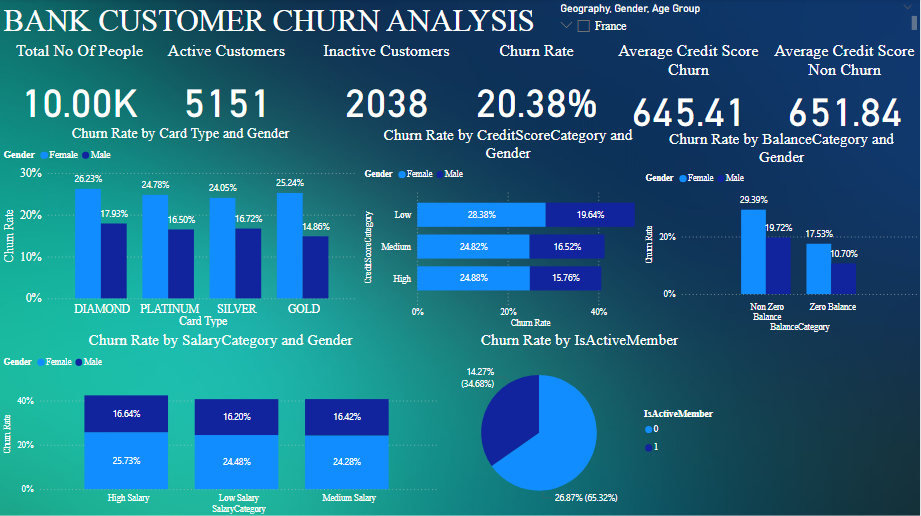

What the dashboard file says about the page in this screenshot:
{"tool":"powerbi","page":{"name":" Page 2","canvas":[1280,720],"ordinal":1},"visuals":[{"type":"textbox","box":[0,0,765.9,59.8],"z":0},{"type":"card","title":"Total No Of People","fields":{"Values":["CountNonNull(Customer-Churn-Records.RowNumber)"]},"box":[0,59.8,221,134.8],"z":1000},{"type":"card","title":"Active Customers","fields":{"Values":["Sum(Customer-Churn-Records.IsActiveMember)"]},"box":[204.3,59.8,221,134.8],"z":2000},{"type":"card","title":"Inactive Customers","fields":{"Values":["Sum(Customer-Churn-Records.Exited)"]},"box":[426.7,59.8,221,134.8],"z":3000},{"type":"card","title":"Churn Rate","fields":{"Values":["Customer-Churn-Records.Churn Rate"]},"box":[635.2,59.8,221,134.8],"z":4000},{"type":"card","title":"Average Credit Score Churn","fields":{"Values":["Customer-Churn-Records.AvgCreditScore_Churned"]},"box":[846.5,59.8,221,134.8],"z":5000},{"type":"card","title":"Average Credit Score Non Churn","fields":{"Values":["Customer-Churn-Records.AvgCreditSCore_NonChurn"]},"box":[1067.5,59.8,212.7,134.8],"z":6000},{"type":"clusteredColumnChart","fields":{"Category":["Customer-Churn-Records.Card Type"],"Y":["Customer-Churn-Records.Churn Rate"],"Series":["Customer-Churn-Records.Gender"]},"box":[0,175.1,501.8,286.3],"z":7000},{"type":"barChart","fields":{"Y":["Customer-Churn-Records.Churn Rate"],"Category":["Customer-Churn-Records.CreditScoreCategory"],"Series":["Customer-Churn-Records.Gender"]},"box":[501.8,176.5,408.6,286.3],"z":8000},{"type":"clusteredColumnChart","fields":{"Category":["Customer-Churn-Records.BalanceCategory"],"Y":["Customer-Churn-Records.Churn Rate"],"Series":["Customer-Churn-Records.Gender"]},"box":[892.4,182.1,387.8,286.3],"z":9000},{"type":"columnChart","fields":{"Y":["Customer-Churn-Records.Churn Rate"],"Series":["Customer-Churn-Records.Gender"],"Category":["Customer-Churn-Records.SalaryCategory"]},"box":[0,461.5,613,258.5],"z":10000},{"type":"pieChart","fields":{"Y":["Customer-Churn-Records.Churn Rate"],"Category":["Customer-Churn-Records.IsActiveMember"]},"box":[597.7,461.5,415.6,258.5],"z":11000},{"type":"slicer","fields":{"Values":["Customer-Churn-Records.Geography","Customer-Churn-Records.Gender","Customer-Churn-Records.Age Group"]},"box":[765.7,0,514.3,59.8],"z":11001}]}

Visuals, with their boxes in screenshot pixels (x1, y1, x2, y2), scaled from the page's 1280x720 canvas onto the 921x516 screenshot:
textbox: [left=0, top=0, right=551, bottom=43]
"Total No Of People" card: [left=0, top=43, right=159, bottom=139]
"Active Customers" card: [left=147, top=43, right=306, bottom=139]
"Inactive Customers" card: [left=307, top=43, right=466, bottom=139]
"Churn Rate" card: [left=457, top=43, right=616, bottom=139]
"Average Credit Score Churn" card: [left=609, top=43, right=768, bottom=139]
"Average Credit Score Non Churn" card: [left=768, top=43, right=920, bottom=139]
clusteredColumnChart - Customer-Churn-Records.Card Type x Customer-Churn-Records.Churn Rate: [left=0, top=125, right=361, bottom=331]
barChart - Customer-Churn-Records.Churn Rate x Customer-Churn-Records.CreditScoreCategory: [left=361, top=126, right=655, bottom=332]
clusteredColumnChart - Customer-Churn-Records.BalanceCategory x Customer-Churn-Records.Churn Rate: [left=642, top=131, right=920, bottom=336]
columnChart - Customer-Churn-Records.Churn Rate x Customer-Churn-Records.Gender: [left=0, top=331, right=441, bottom=515]
pieChart - Customer-Churn-Records.Churn Rate x Customer-Churn-Records.IsActiveMember: [left=430, top=331, right=729, bottom=515]
slicer - Customer-Churn-Records.Geography x Customer-Churn-Records.Gender: [left=551, top=0, right=920, bottom=43]
